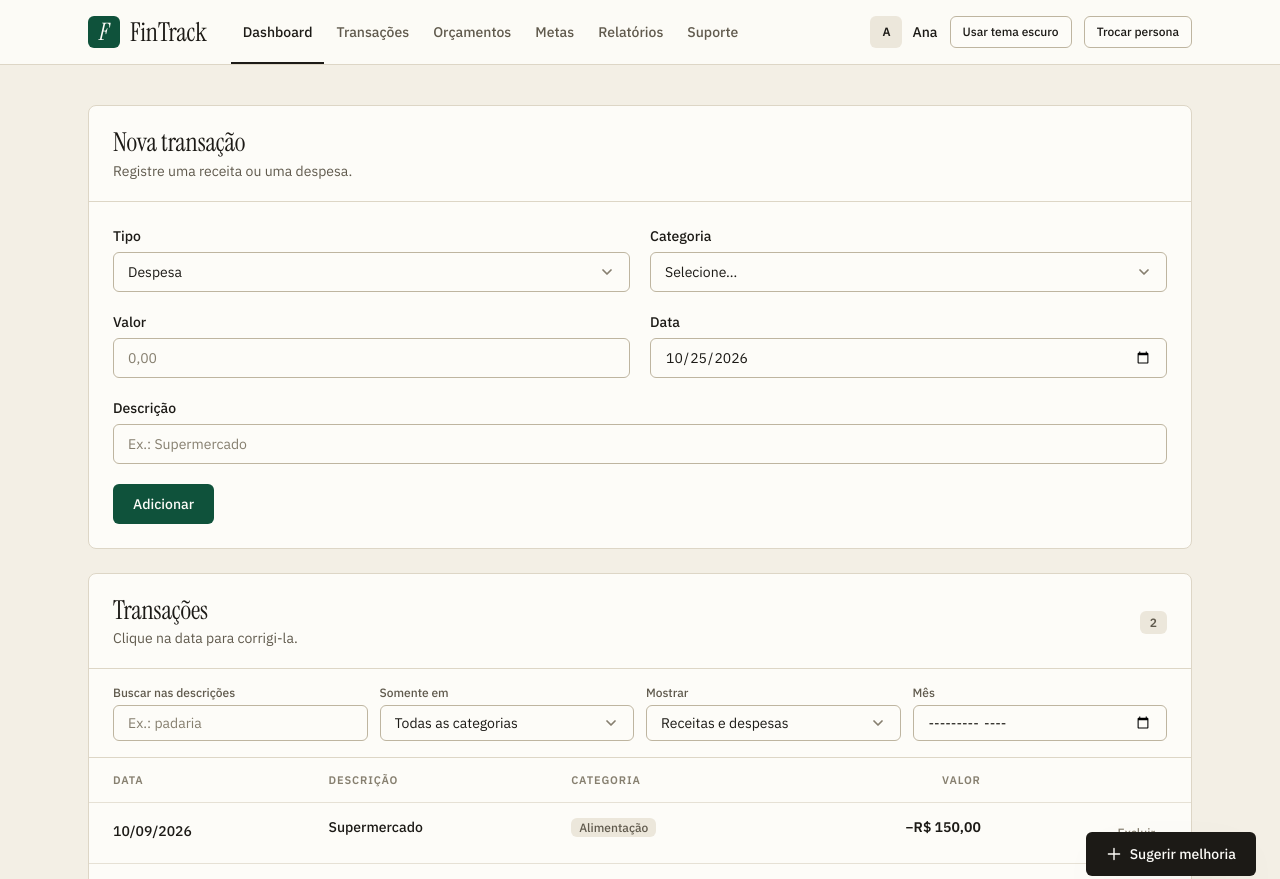
filtros de transação › Limpar volta à lista inteira
Expected: the text "Supermercado" is shown, [304,802,547,864]
Select "Só receitas" in the dropdown labelled "Mostrar" at (773, 723), box [646,705,900,741]
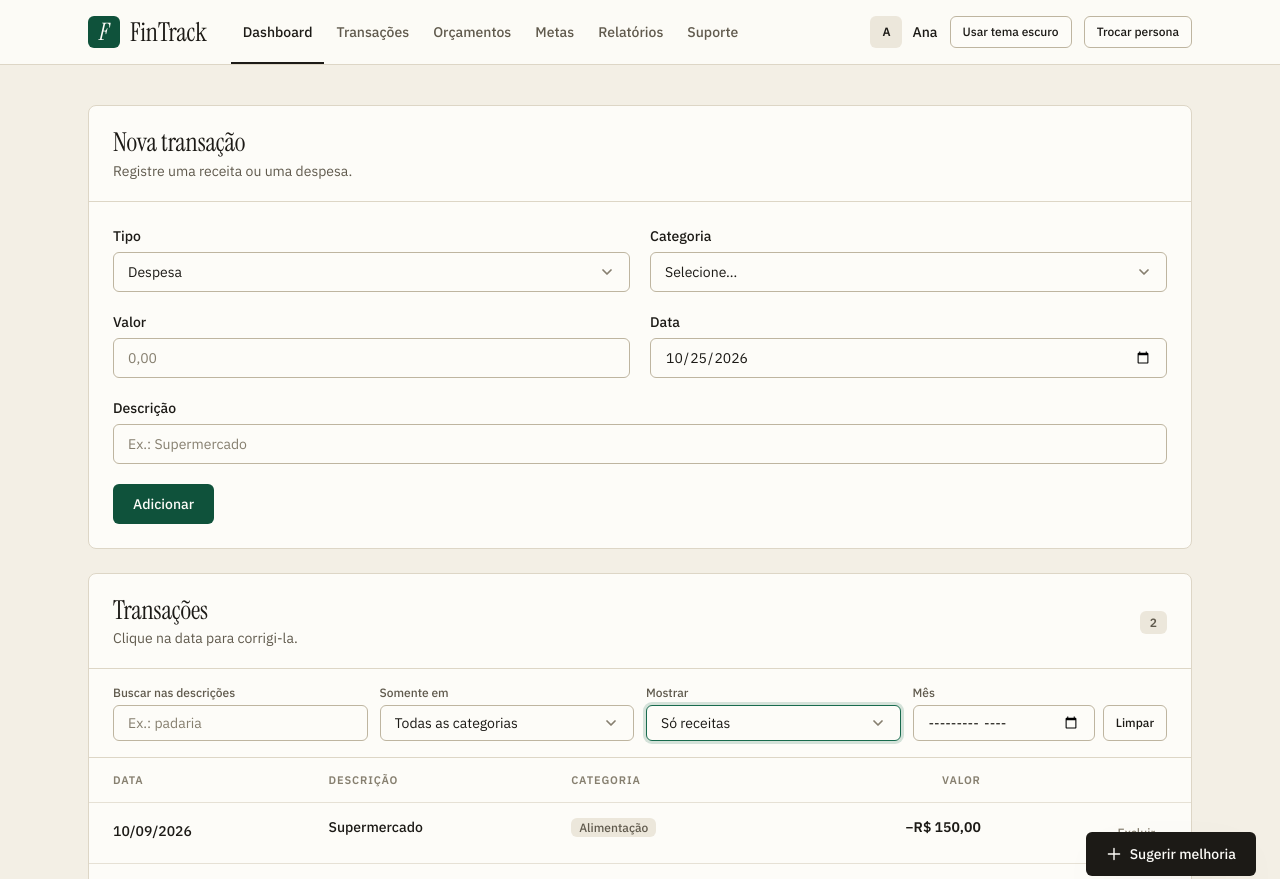
Now the button "Limpar" is shown
Click the button "Limpar" at (1135, 723), box [1103,705,1167,741]
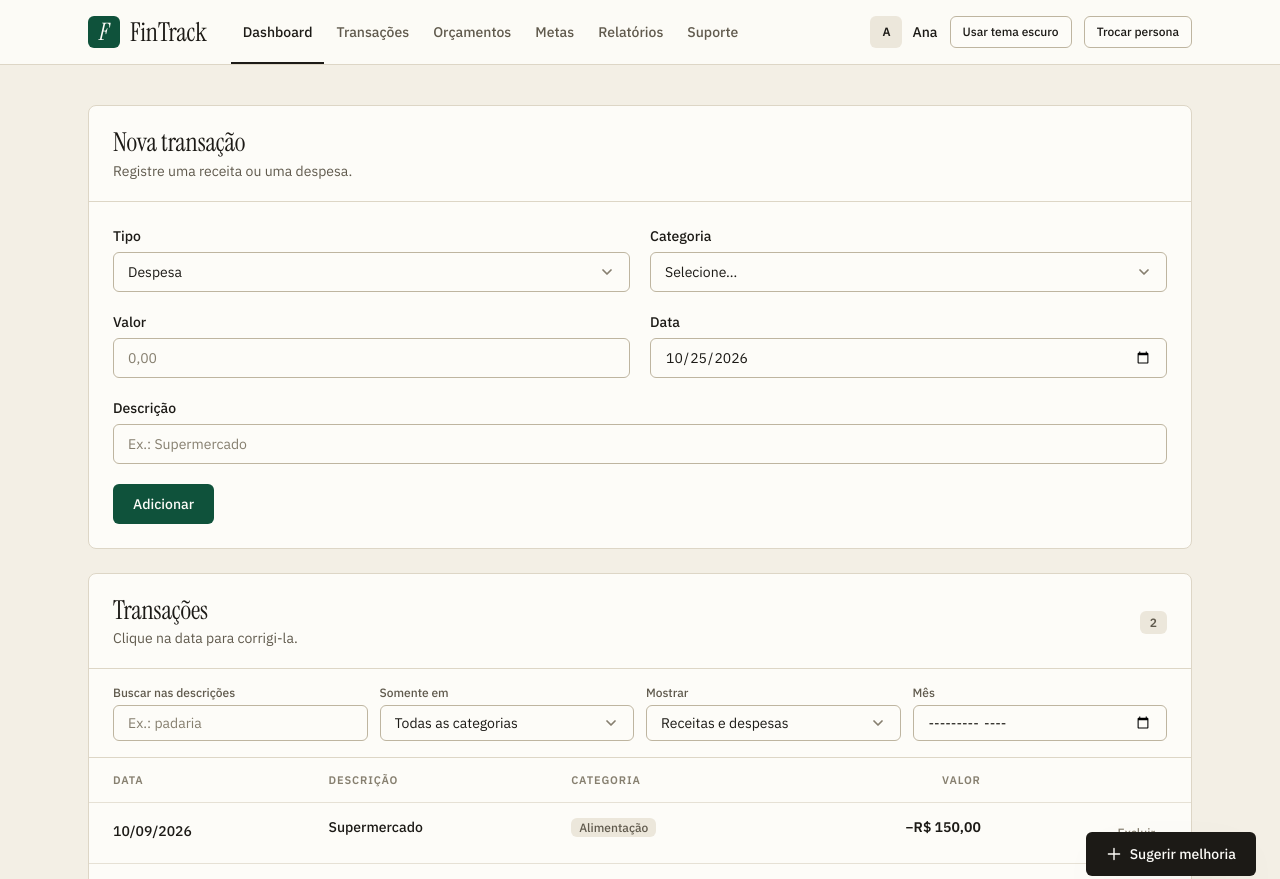
Now the button "Limpar" is gone
